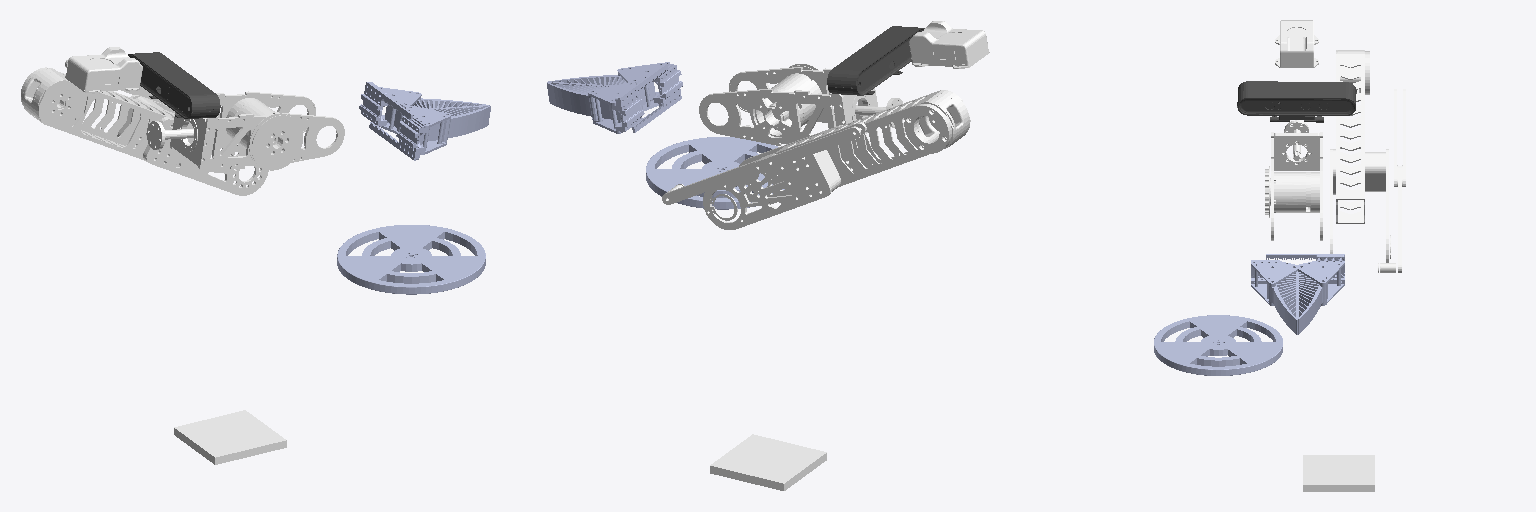
The robot description file, URDF, robot "rm_description":
<?xml version="1.0" encoding="utf-8"?>
<robot name="rm_description">
  <!-- 根链接：base_link -->
  <link name="base_link">
    <inertial>
      <origin xyz="-0.01122376076567 -0.00284794721579435 0.0119690762525294" rpy="0 0 0" />
      <mass value="5.57999874587428" />
      <inertia ixx="0.0105925160219661" ixy="1.29829829990516E-06" ixz="-2.51464106571176E-05"
               iyy="0.0172203234904464" iyz="-2.4863980167142E-06" izz="0.0233520578911697" />
    </inertial>
    <visual>
      <origin xyz="0 0 0" rpy="0 0 0" />
      <geometry>
        <mesh filename="package://rm_description/meshes/base_link.STL" />
      </geometry>
      <material name="">
        <color rgba="0.792156862745098 0.819607843137255 0.933333333333333 1" />
      </material>
    </visual>
    <collision>
      <origin xyz="0 0 0" rpy="0 0 0" />
      <geometry>
        <mesh filename="package://rm_description/meshes/base_link.STL" />
      </geometry>
    </collision>
  </link>


  <!-- 雷达 -->
  <link name="radar">
    <inertial>
      <origin xyz="8.3267E-17 3.0531E-16 -0.0049576" rpy="0 0 0" />
      <mass value="0.17859" />
      <inertia ixx="0.00038339" ixy="6.0429E-19" ixz="-1.0897E-21"
               iyy="0.00038339" iyz="1.6591E-21" izz="0.00076383" />
    </inertial>
    <visual>
      <origin xyz="0 0 0" rpy="0 0 0" />
      <geometry>
        <mesh filename="package://rm_description/meshes/radar.STL" />
      </geometry>
      <material name="">
        <color rgba="0.79216 0.81961 0.93333 1" />
      </material>
    </visual>
    <collision>
      <origin xyz="0 0 0" rpy="0 0 0" />
      <geometry>
        <mesh filename="package://rm_description/meshes/radar.STL" />
      </geometry>
    </collision>
  </link>
  <joint name="radar_joint" type="fixed">
    <origin xyz="0.1572 -0.1665 0.0922" rpy="0 0 0" />
    <parent link="base_link" />
    <child link="radar" />
  </joint>

  <!-- 机械臂连杆1 -->
  <link name="link1">
    <inertial>
      <origin xyz="7.5138E-05 0.027318 0.03997" rpy="0 0 0" />
      <mass value="0.5831" />
      <inertia ixx="0.0005856" ixy="4.8904E-09" ixz="-9.2102E-09"
               iyy="0.00098372" iyz="8.5229E-09" izz="0.00077233" />
    </inertial>
    <visual>
      <origin xyz="0 0 0" rpy="0 0 0" />
      <geometry>
        <mesh filename="package://rm_description/meshes/link1.STL" />
      </geometry>
      <material name="">
        <color rgba="0.79216 0.81961 0.93333 1" />
      </material>
    </visual>
    <collision>
      <origin xyz="0 0 0" rpy="0 0 0" />
      <geometry>
        <mesh filename="package://rm_description/meshes/link1.STL" />
      </geometry>
    </collision>
  </link>
  <joint name="joint1" type="revolute">
    <origin xyz="0.0175 0 0.0977" rpy="0 0 0" />
    <parent link="base_link" />
    <child link="link1" />
    <axis xyz="0 0 1" />
    <limit lower="-3.14" upper="3.14" effort="20" velocity="6.28" />
  </joint>

  <!-- 机械臂连杆2 -->
  <link name="link2">
    <inertial>
      <origin xyz="0.0040084 0.15556 0.032129" rpy="0 0 0" />
      <mass value="0.54795" />
      <inertia ixx="0.0017176" ixy="3.7298E-08" ixz="-3.8163E-12"
               iyy="0.00025298" iyz="-1.4099E-06" izz="0.0018495" />
    </inertial>
    <visual>
      <origin xyz="0 0 0" rpy="0 0 0" />
      <geometry>
        <mesh filename="package://rm_description/meshes/link2.STL" />
      </geometry>
      <material name="">
        <color rgba="1 1 1 1" />
      </material>
    </visual>
    <collision>
      <origin xyz="0 0 0" rpy="0 0 0" />
      <geometry>
        <mesh filename="package://rm_description/meshes/link2.STL" />
      </geometry>
    </collision>
  </link>
  <joint name="joint2" type="revolute">
    <origin xyz="0 0.063 0.075" rpy="1.5708 -1.0472 0" />
    <parent link="link1" />
    <child link="link2" />
    <axis xyz="0 0 1" />
    <limit lower="-1.54" upper="0.0" effort="40" velocity="6.28" />
  </joint>

  <!-- 机械臂连杆3 -->
  <link name="link3">
    <inertial>
      <origin xyz="0.011856 -0.05002 0.0066166" rpy="0 0 0" />
      <mass value="0.79125" />
      <inertia ixx="0.00089963" ixy="9.0892E-05" ixz="5.0297E-07"
               iyy="0.00050087" iyz="1.3258E-06" izz="0.0010218" />
    </inertial>
    <visual>
      <origin xyz="0 0 0" rpy="0 0 0" />
      <geometry>
        <mesh filename="package://rm_description/meshes/link3.STL" />
      </geometry>
      <material name="">
        <color rgba="0.79216 0.81961 0.93333 1" />
      </material>
    </visual>
    <collision>
      <origin xyz="0 0 0" rpy="0 0 0" />
      <geometry>
        <mesh filename="package://rm_description/meshes/link3.STL" />
      </geometry>
    </collision>
  </link>
  <joint name="joint3" type="revolute">
    <origin xyz="0 0.295 0.12075" rpy="3.1416 0 -2.7925" />
    <parent link="link2" />
    <child link="link3" />
    <axis xyz="0 0 1" />
    <limit lower="-2.4" upper="0.0" effort="30" velocity="6.28" />
  </joint>

  <!-- 相机1 -->
  <link name="camera1">
    <inertial>
      <origin xyz="-0.034482 -0.00015312 0.0032629" rpy="0 0 0" />
      <mass value="0.036897" />
      <inertia ixx="1.6058E-05" ixy="-1.7376E-07" ixz="-1.7114E-06"
               iyy="2.9168E-05" iyz="-2.0999E-08" izz="3.5855E-05" />
    </inertial>
    <visual>
      <origin xyz="0 0 0" rpy="0 0 0" />
      <geometry>
        <mesh filename="package://rm_description/meshes/camera1.STL" />
      </geometry>
      <material name="">
        <color rgba="1 1 1 1" />
      </material>
    </visual>
    <collision>
      <origin xyz="0 0 0" rpy="0 0 0" />
      <geometry>
        <mesh filename="package://rm_description/meshes/camera1.STL" />
      </geometry>
    </collision>
  </link>
  <joint name="camera1_joint" type="fixed">
    <origin xyz="-0.062239 -0.0553 0" rpy="1.5708 0 -1.5708" />
    <parent link="link3" />
    <child link="camera1" />
  </joint>

  <!-- 相机2 -->
  <link name="camera2">
    <inertial>
      <origin xyz="-0.018394 -6.7298E-05 -0.0038392" rpy="0 0 0" />
      <mass value="0.057089" />
      <inertia ixx="0.0001312" ixy="1.2086E-07" ixz="1.739E-06"
               iyy="1.9438E-05" iyz="-2.9214E-08" izz="0.0001316" />
    </inertial>
    <visual>
      <origin xyz="0 0 0" rpy="0 0 0" />
      <geometry>
        <mesh filename="package://rm_description/meshes/camera2.STL" />
      </geometry>
      <material name="">
        <color rgba="0.37647 0.37647 0.37647 1" />
      </material>
    </visual>
    <collision>
      <origin xyz="0 0 0" rpy="0 0 0" />
      <geometry>
        <mesh filename="package://rm_description/meshes/camera2.STL" />
      </geometry>
    </collision>
  </link>
  <joint name="joint_camera2" type="fixed">
    <origin xyz="-0.03975 -0.13945 0" rpy="1.5708 0.0099997 -1.5708" />
    <parent link="link3" />
    <child link="camera2" />
  </joint>

  <!-- 机械臂连杆4 -->
  <link name="link4">
    <inertial>
      <origin xyz="-0.0046535 3.2003E-05 0.076088" rpy="0 0 0" />
      <mass value="0.32643" />
      <inertia ixx="0.00053041" ixy="-1.5339E-08" ixz="-7.1647E-09"
               iyy="0.00046136" iyz="-9.1966E-08" izz="0.00012164" />
    </inertial>
    <visual>
      <origin xyz="0 0 0" rpy="0 0 0" />
      <geometry>
        <mesh filename="package://rm_description/meshes/link4.STL" />
      </geometry>
      <material name="">
        <color rgba="1 1 1 1" />
      </material>
    </visual>
    <collision>
      <origin xyz="0 0 0" rpy="0 0 0" />
      <geometry>
        <mesh filename="package://rm_description/meshes/link4.STL" />
      </geometry>
    </collision>
  </link>
  <joint name="joint4" type="continuous"> <!-- 修复：改为continuous关节 -->
    <origin xyz="0.0245 -0.1555 0" rpy="1.5708 -1.5708 0" />
    <parent link="link3" />
    <child link="link4" />
    <axis xyz="0 0 1" />
    <limit lower="-3.0" upper="3.0" effort="3" velocity="6.28" />
  </joint>

  <!-- 机械臂连杆5 -->
  <link name="link5">
    <inertial>
      <origin xyz="-5.188E-05 0.014864 0.00048766" rpy="0 0 0" />
      <mass value="0.15797" />
      <inertia ixx="5.5994E-05" ixy="-4.1662E-08" ixz="-2.8517E-08"
               iyy="7.3422E-05" iyz="-1.6397E-07" izz="5.3618E-05" />
    </inertial>
    <visual>
      <origin xyz="0 0 0" rpy="0 0 0" />
      <geometry>
        <mesh filename="package://rm_description/meshes/link5.STL" />
      </geometry>
      <material name="">
        <color rgba="0.79216 0.81961 0.93333 1" />
      </material>
    </visual>
    <collision>
      <origin xyz="0 0 0" rpy="0 0 0" />
      <geometry>
        <mesh filename="package://rm_description/meshes/link5.STL" />
      </geometry>
    </collision>
  </link>
  <joint name="joint5" type="revolute">
    <origin xyz="0 0 0.1725" rpy="1.5708 0 -1.5708" />
    <parent link="link4" />
    <child link="link5" />
    <axis xyz="0 0 -1" />
    <limit lower="-1.57" upper="1.57" effort="9" velocity="6.28" />
  </joint>

  <!-- 机械臂连杆6 -->
  <link name="link6">
    <inertial>
      <origin xyz="-6.5465E-07 -3.2249E-05 0.051478" rpy="0 0 0" />
      <mass value="0.24205" />
      <inertia ixx="0.00024097" ixy="-2.7196E-08" ixz="5.3122E-10"
               iyy="6.561E-05" iyz="-4.1833E-08" izz="0.00027744" />
    </inertial>
    <visual>
      <origin xyz="0 0 0" rpy="0 0 0" />
      <geometry>
        <mesh filename="package://rm_description/meshes/link6.STL" />
      </geometry>
      <material name="">
        <color rgba="0.79216 0.81961 0.93333 1" />
      </material>
    </visual>
    <collision>
      <origin xyz="0 0 0" rpy="0 0 0" />
      <geometry>
        <mesh filename="package://rm_description/meshes/link6.STL" />
      </geometry>
    </collision>
  </link>
  <joint name="joint6" type="revolute">
    <origin xyz="0 0.035 -0.00115" rpy="-1.5708 0 0" />
    <parent link="link5" />
    <child link="link6" />
    <axis xyz="0 0 1" />
    <limit lower="-1.57" upper="1.57" effort="3" velocity="6.28" />
  </joint>

  <!-- 左夹爪 -->
  <link name="gripper_left">
    <inertial>
      <origin xyz="-0.00097623 -0.039906 -0.027286" rpy="0 0 0" />
      <mass value="0.082285" />
      <inertia ixx="6.4638E-05" ixy="1.1348E-08" ixz="4.7593E-08"
               iyy="1.8092E-05" iyz="-5.9634E-06" izz="5.465E-05" />
    </inertial>
    <visual>
      <origin xyz="0 0 0" rpy="0 0 0" />
      <geometry>
        <mesh filename="package://rm_description/meshes/gripper_left.STL" />
      </geometry>
      <material name="">
        <color rgba="0.79216 0.81961 0.93333 1" />
      </material>
    </visual>
    <collision>
      <origin xyz="0 0 0" rpy="0 0 0" />
      <geometry>
        <mesh filename="package://rm_description/meshes/gripper_left.STL" />
      </geometry>
    </collision>
  </link>
  <joint name="joint_gripper_left" type="prismatic">
    <origin xyz="0 -0.00115 0.1569" rpy="1.5708 0 0" />
    <parent link="link6" />
    <child link="gripper_left" />
    <axis xyz="0 0 -1" />
    <limit lower="0.0" upper="0.06" effort="1000" velocity="1.0" />
  </joint>

  <!-- 右夹爪 -->
  <link name="gripper_right">
    <inertial>
      <origin xyz="0.00097623 -0.03896 0.024986" rpy="0 0 0" />
      <mass value="0.082285" />
      <inertia ixx="6.4638E-05" ixy="-1.1348E-08" ixz="4.7593E-08"
               iyy="1.8092E-05" iyz="5.9634E-06" izz="5.465E-05" />
    </inertial>
    <visual>
      <origin xyz="0 0 0" rpy="0 0 0" />
      <geometry>
        <mesh filename="package://rm_description/meshes/gripper_right.STL" />
      </geometry>
      <material name="">
        <color rgba="0.79216 0.81961 0.93333 1" />
      </material>
    </visual>
    <collision>
      <origin xyz="0 0 0" rpy="0 0 0" />
      <geometry>
        <mesh filename="package://rm_description/meshes/gripper_right.STL" />
      </geometry>
    </collision>
  </link>
  <joint name="joint_gripper_right" type="prismatic">
    <origin xyz="0 -0.00115 0.1569" rpy="1.5708 0 0" />
    <parent link="link6" />
    <child link="gripper_right" />
    <axis xyz="0 0 1" />
    <limit lower="-0.06" upper="0.0" effort="1000" velocity="1.0" />
    <mimic joint="joint_gripper_left" />
    <multiplier value="-1.0" />
  </joint>

  <!-- 虚拟底座：base_footprint -->
  <link name="base_footprint">
    <visual>
      <origin xyz="0 0 0" rpy="0 0 0" />
      <geometry>
        <box size="0.1 0.1 0.01" />
      </geometry>
      <material name="">
        <color rgba="1 1 1 0.5" />
      </material>
    </visual>
  </link>
  <joint name="joint_base_footprint" type="fixed">
    <origin xyz="0 0 0.18113" rpy="0 0 0" />
    <parent link="base_footprint" />
    <child link="base_link" />
  </joint>


  <ros2_control name="rm_description_ros2_control" type="system">
    <hardware>
        <!-- <plugin>mock_components/GenericSystem</plugin> -->
        <plugin>arm_hardware/ArmHardwareInterface</plugin>
    </hardware>
    <joint name="joint1">
        <command_interface name="position"/>
        <state_interface name="position">
          <param name="initial_value">0.0</param>
        </state_interface>
    </joint>
    <joint name="joint2">
        <command_interface name="position"/>
        <state_interface name="position">
          <param name="initial_value">0.0</param>
        </state_interface>
    </joint>
    <joint name="joint3">
        <command_interface name="position"/>
        <state_interface name="position">
          <param name="initial_value">0.0</param>
        </state_interface>
    </joint>
    <joint name="joint4">
        <command_interface name="position"/>
        <state_interface name="position">
          <param name="initial_value">0.0</param>
        </state_interface>
    </joint>
    <joint name="joint5">
        <command_interface name="position"/>
        <state_interface name="position">
          <param name="initial_value">0.0</param>
        </state_interface>
    </joint>
    <joint name="joint6">
        <command_interface name="position"/>
        <state_interface name="position">
          <param name="initial_value">0.0</param>
        </state_interface>
    </joint>
    <joint name="joint_gripper_left">
        <command_interface name="position"/>
        <state_interface name="position">
          <param name="initial_value">0.0</param>
        </state_interface>
    </joint>
  </ros2_control>
</robot> 

--- What the picture shows (computed from the rendered views, not written in the file) ---
The picture shows the robot from 3 angles, left to right: view 1: azimuth 30°, elevation 25°; view 2: azimuth 150°, elevation 25°; view 3: azimuth 270°, elevation 25°; orthographic projection.
Robot: rm_description — 13 links, 12 joints (5 revolute, 1 continuous, 2 prismatic, 4 fixed); root link base_footprint; default pose: every joint at zero.
Visible links, largest first — view 1: link4, link2, radar, base_footprint, gripper_right, camera2, camera1, gripper_left; view 2: link2, link4, radar, base_footprint, gripper_left, camera2, camera1, gripper_right; view 3: link2, radar, link4, camera2, gripper_left, base_footprint, gripper_right, camera1.
Boxes of the visible links, <box> form: link4: <box>147,91,344,170</box>; link2: <box>21,59,268,195</box>; radar: <box>337,225,485,294</box>; base_footprint: <box>174,410,286,464</box>; gripper_right: <box>369,106,490,160</box>; camera2: <box>128,52,220,118</box>; camera1: <box>65,47,142,93</box>; gripper_left: <box>359,82,489,133</box>; link2: <box>662,90,970,229</box>; link4: <box>699,64,903,145</box>; radar: <box>646,137,784,209</box>; base_footprint: <box>710,434,826,490</box>; gripper_left: <box>547,64,667,133</box>; camera2: <box>827,26,924,95</box>; camera1: <box>909,21,989,68</box>; gripper_right: <box>548,62,682,132</box>; link2: <box>1330,50,1405,272</box>; radar: <box>1154,315,1282,375</box>; link4: <box>1265,120,1322,240</box>; camera2: <box>1237,81,1356,122</box>; gripper_left: <box>1266,254,1344,334</box>; base_footprint: <box>1303,455,1374,491</box>; gripper_right: <box>1251,260,1297,334</box>; camera1: <box>1275,20,1318,67</box>.
Bounding box of the posed robot: 0.6015 × 0.3505 × 0.5846 m (x, y, z).
7 mesh visuals loaded from 12 distinct referenced files (7 binary STL); not drawn: 5 (reference not matched to a file when rendering).
